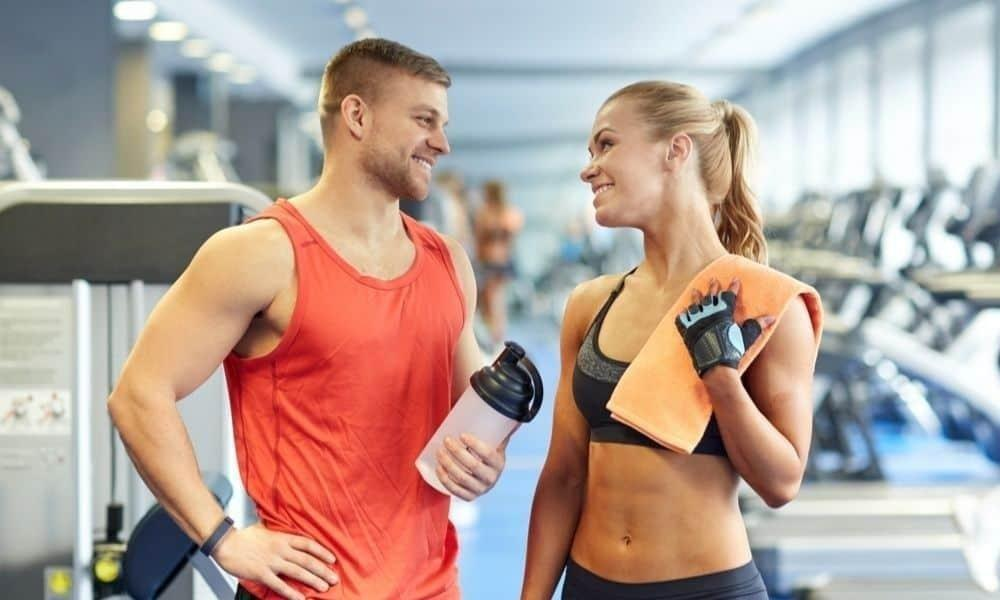gym bottle: (415, 341, 543, 494)
